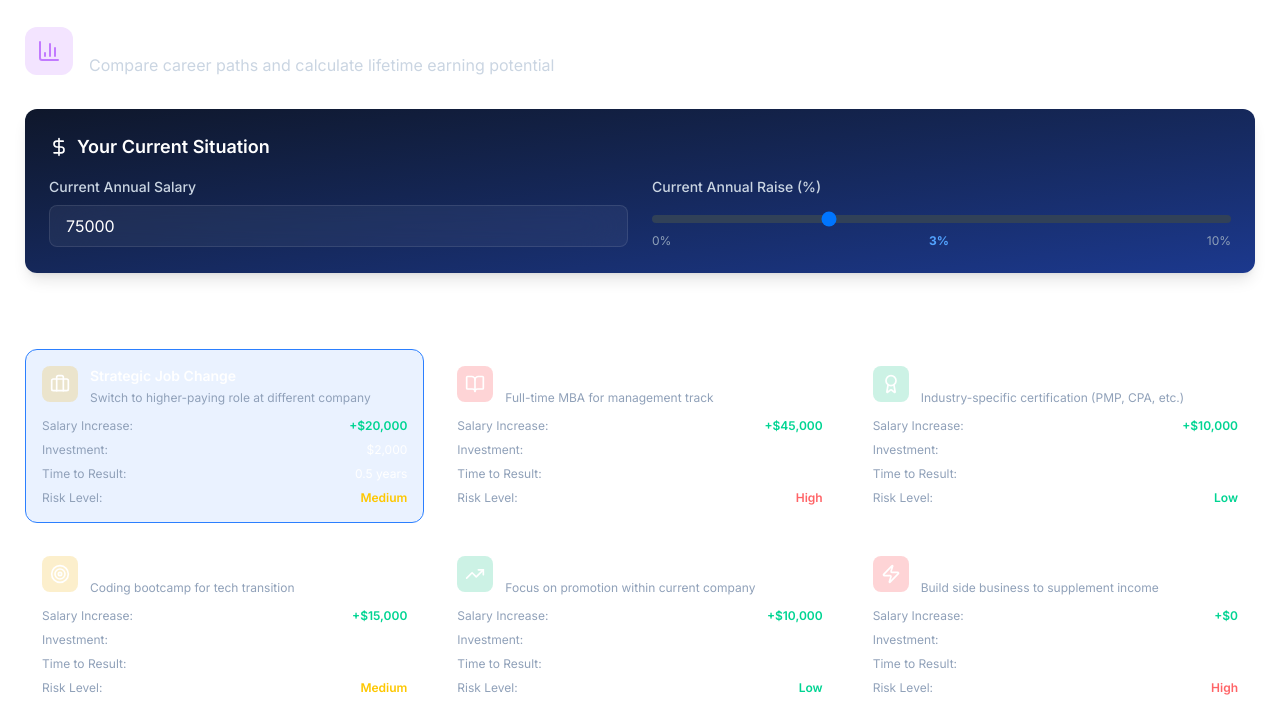
Test: CareerGrowthROICalculator › updates quick preview when different option is selected
Select MBA option
Click the text "MBA Program". click: (640, 436)
box: [440,349,840,523]
(page scrolled)
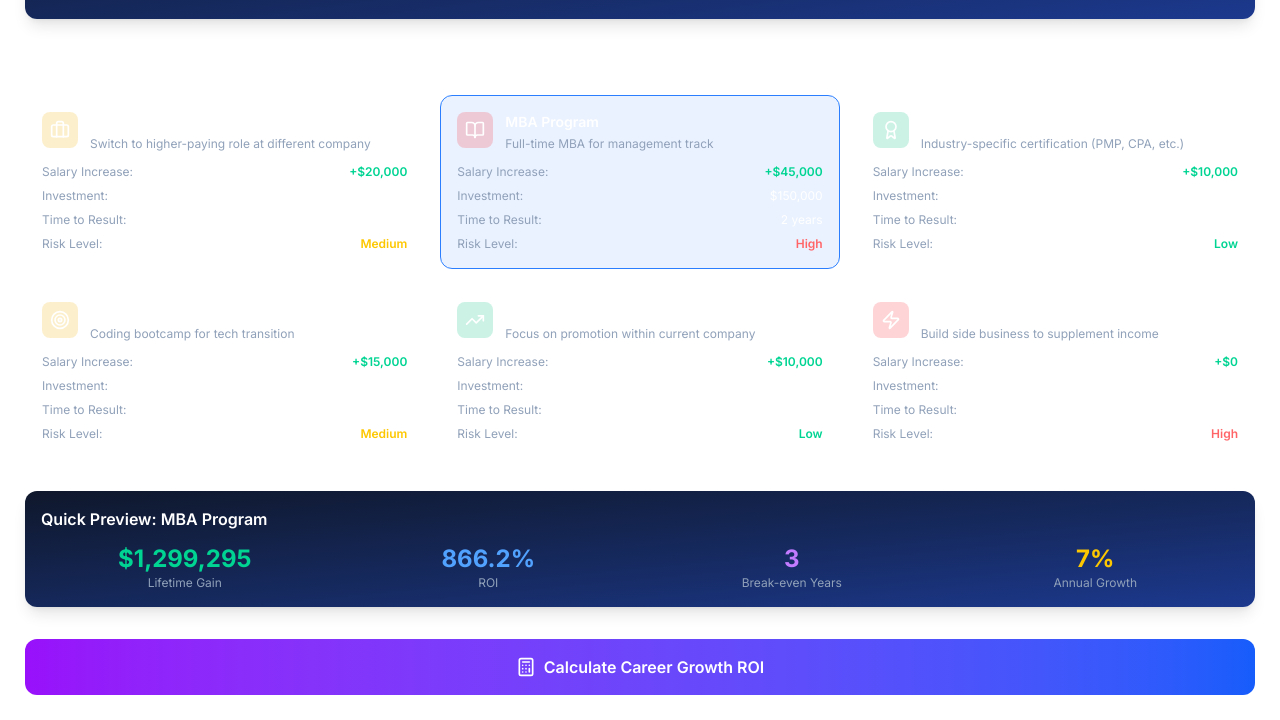
Check: the heading "Quick Preview: MBA Program" is shown, box [41,509,268,529]
